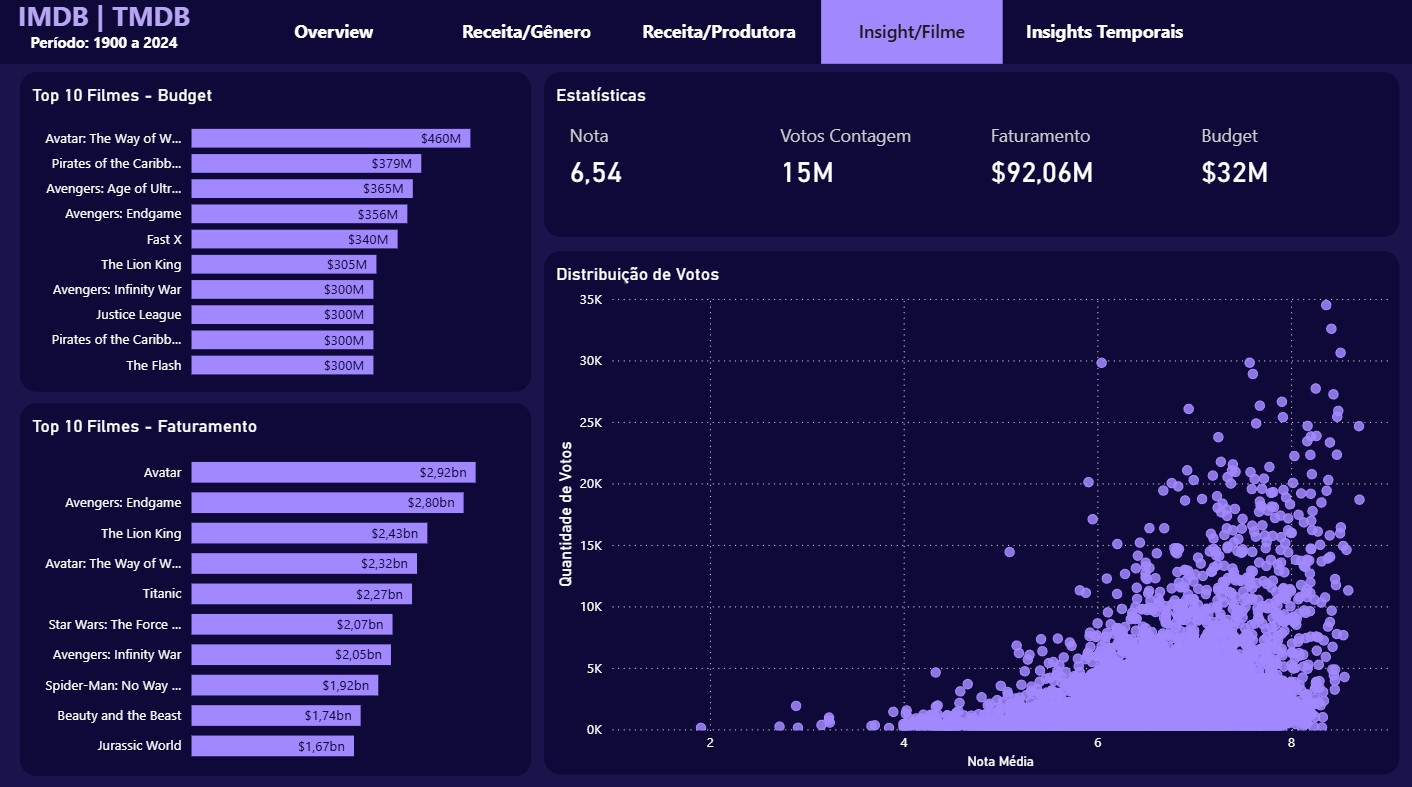

The page's visual inventory and layout, read from the dashboard file:
{"tool":"powerbi","page":{"name":"Insight/Filme","canvas":[1280,720],"ordinal":3},"visuals":[{"type":"shape","box":[0,0,1280.2,65.5],"z":0},{"type":"pageNavigator","box":[224.4,5.4,855.6,60.1],"z":1000},{"type":"clusteredBarChart","title":"Top 10 Filmes - Faturamento","fields":{"Category":["movie_finance_chunk.title"],"Y":["Sum(movie_finance_chunk.revenue)"]},"box":[24.3,369.6,459.1,334.6],"z":2000},{"type":"clusteredBarChart","title":"Top 10 Filmes - Budget","fields":{"Category":["movie_finance_chunk.title"],"Y":["Sum(movie_finance_chunk.budget)"]},"box":[24.3,72.9,459.1,286.9],"z":3000},{"type":"textbox","box":[0,5,199.3,67.3],"z":6000},{"type":"cardVisual","title":"Estatisticas de duração","fields":{"Data":["Sum(movie_finance_chunk.vote_count)","Avg(movie_finance_chunk.vote_average)","Avg(movie_finance_chunk.runtime)","Avg(movie_finance_chunk.popularity)"]},"box":[845.2,81.7,417.3,241.2],"z":7000},{"type":"scatterChart","title":"Distribuição de Votos","fields":{"Category":["movie_finance_chunk.title"],"X":["Avg(movie_finance_chunk.vote_average)"],"Y":["Sum(movie_finance_chunk.vote_count)"]},"box":[495.1,335.6,767.4,368.6],"z":8000}]}

Visuals, with their boxes in screenshot pixels (x1, y1, x2, y2), scaled from the page's 1280x720 canvas onto the 1412x787 screenshot:
shape: locate(0, 0, 1411, 72)
pageNavigator: locate(248, 6, 1191, 72)
"Top 10 Filmes - Faturamento" clusteredBarChart: locate(27, 404, 533, 770)
"Top 10 Filmes - Budget" clusteredBarChart: locate(27, 80, 533, 393)
textbox: locate(0, 5, 220, 79)
"Estatisticas de duração" cardVisual: locate(932, 89, 1393, 353)
"Distribuição de Votos" scatterChart: locate(546, 367, 1393, 770)
